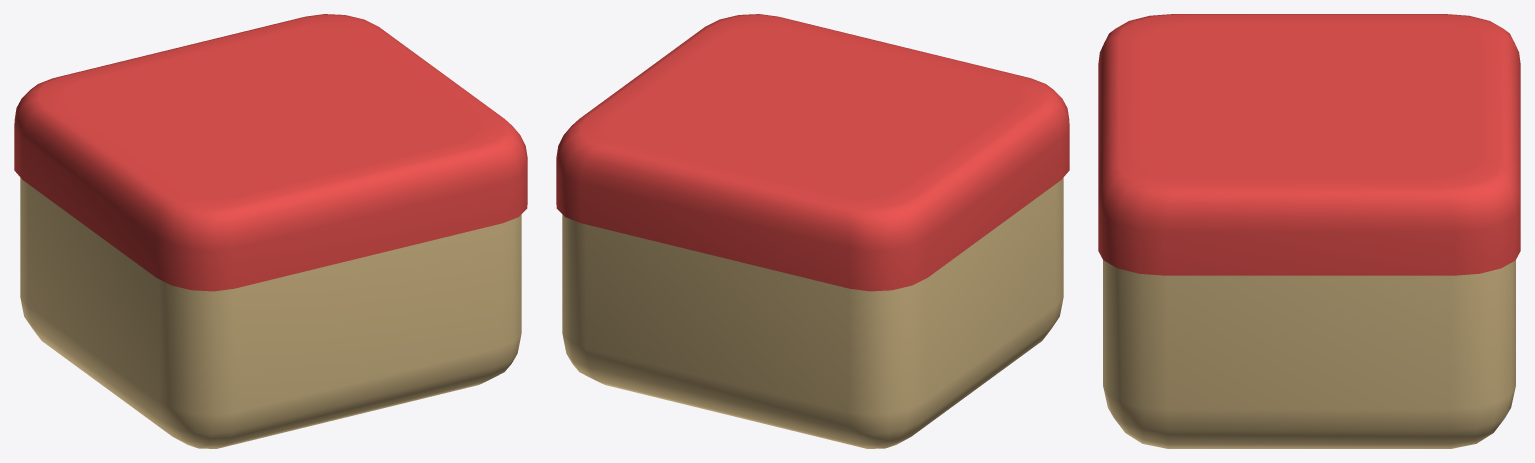
Rendered from fridgebox3.glb.
The picture shows the model from 3 angles, left to right: view 1: azimuth 30°, elevation 25°; view 2: azimuth 150°, elevation 25°; view 3: azimuth 270°, elevation 25°; orthographic projection. The views are drawn at different scales.
Parts seen in each view (by area): view 1: Cube.050; view 2: Cube.050; view 3: Cube.050.
Part boxes in pixels (left/top/right/bottom): Cube.050: left=14, top=14, right=527, bottom=448; Cube.050: left=556, top=14, right=1069, bottom=448; Cube.050: left=1098, top=14, right=1520, bottom=448.
Size of the model in its own units: 0.4573 by 0.304 by 0.4259.
